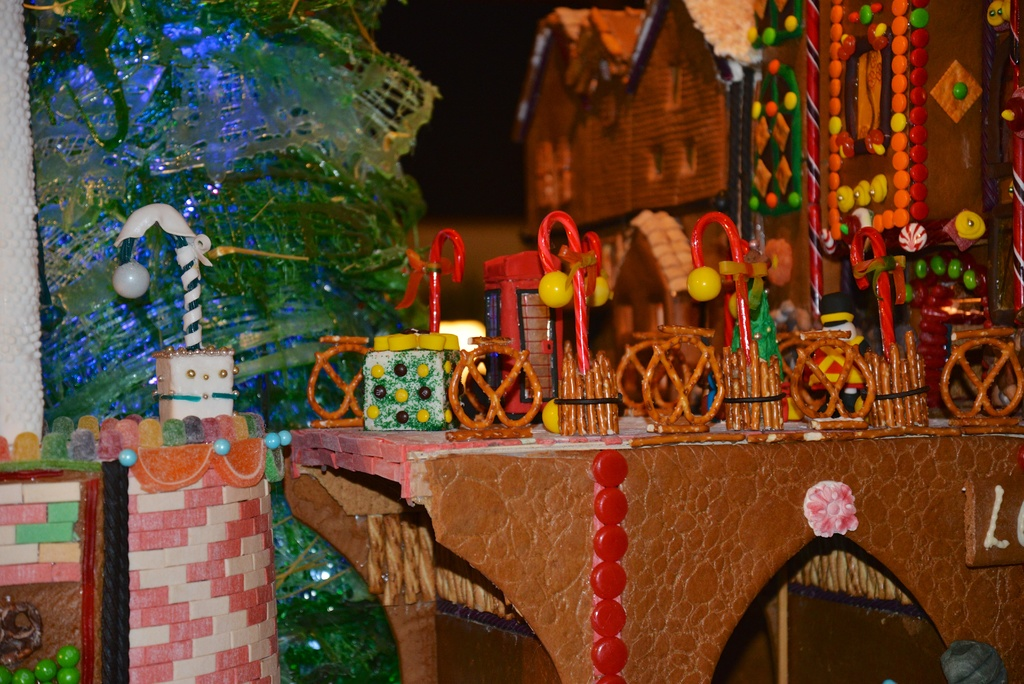Tree: (23, 0, 441, 683)
